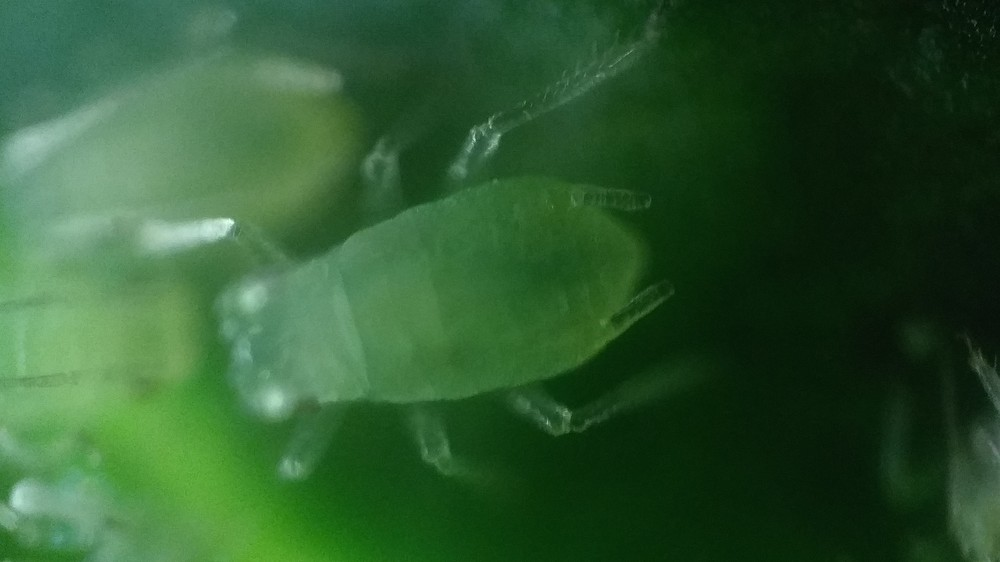Pulgon: (172, 56, 781, 525)
